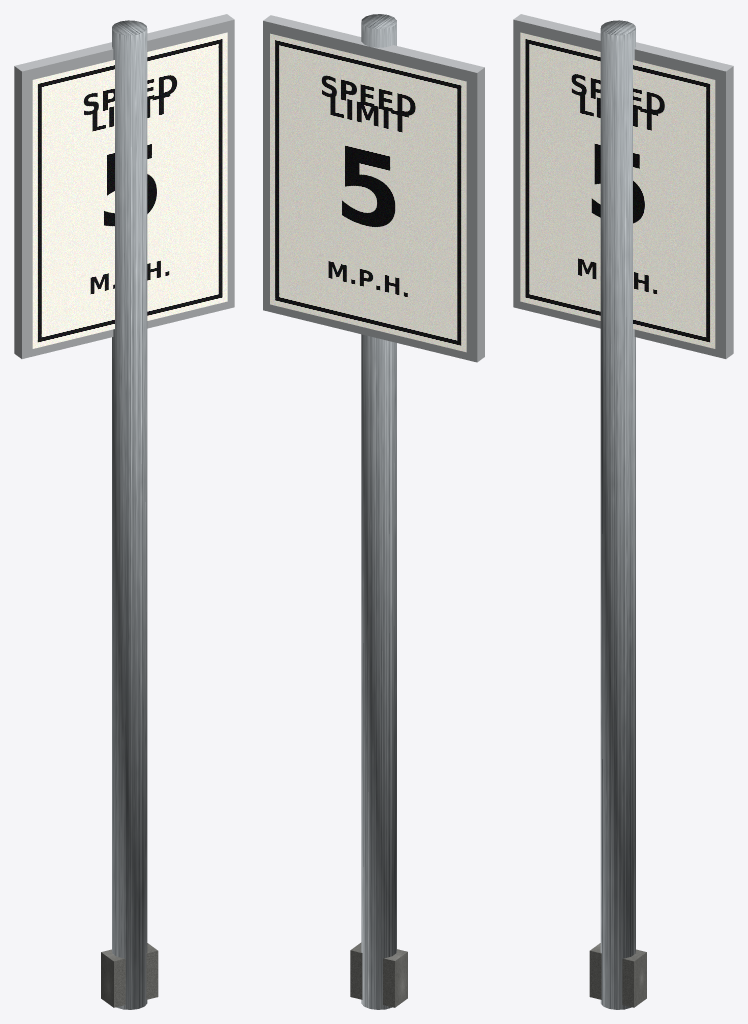
Rendered from WK_SGN_SpeedLimit5.glb.
The picture shows the model from 3 angles, left to right: view 1: azimuth 30°, elevation 25°; view 2: azimuth 150°, elevation 25°; view 3: azimuth 330°, elevation 25°; orthographic projection.
Visible parts, largest first — view 1: WK_SGN_SpeedLimit5_P03, WK_SGN_SpeedLimit5_P01, WK_SGN_SpeedLimit5_P02, WK_SGN_SpeedLimit5_P05; view 2: WK_SGN_SpeedLimit5_P04, WK_SGN_SpeedLimit5_P01, WK_SGN_SpeedLimit5_P02, WK_SGN_SpeedLimit5_P05; view 3: WK_SGN_SpeedLimit5_P03, WK_SGN_SpeedLimit5_P01, WK_SGN_SpeedLimit5_P02, WK_SGN_SpeedLimit5_P05.
Boxes of the visible parts, x1,y1,x2,y2 form: WK_SGN_SpeedLimit5_P03: (32, 32, 227, 348); WK_SGN_SpeedLimit5_P01: (112, 20, 147, 1009); WK_SGN_SpeedLimit5_P02: (14, 14, 234, 358); WK_SGN_SpeedLimit5_P05: (101, 943, 158, 1007); WK_SGN_SpeedLimit5_P04: (270, 33, 466, 352); WK_SGN_SpeedLimit5_P01: (361, 14, 396, 1009); WK_SGN_SpeedLimit5_P02: (263, 15, 484, 362); WK_SGN_SpeedLimit5_P05: (350, 942, 407, 1007); WK_SGN_SpeedLimit5_P03: (520, 32, 715, 348); WK_SGN_SpeedLimit5_P01: (600, 20, 635, 1009); WK_SGN_SpeedLimit5_P02: (513, 14, 733, 358); WK_SGN_SpeedLimit5_P05: (589, 943, 646, 1007).
Size of the model in its own units: 0.48 by 2.1 by 0.077.
Materials: 4 (3 with a texture image).
